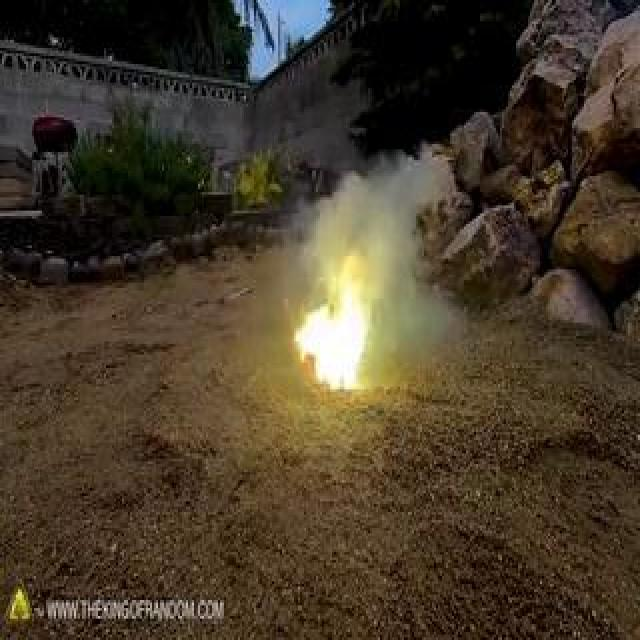Fire: (80, 162, 319, 316)
